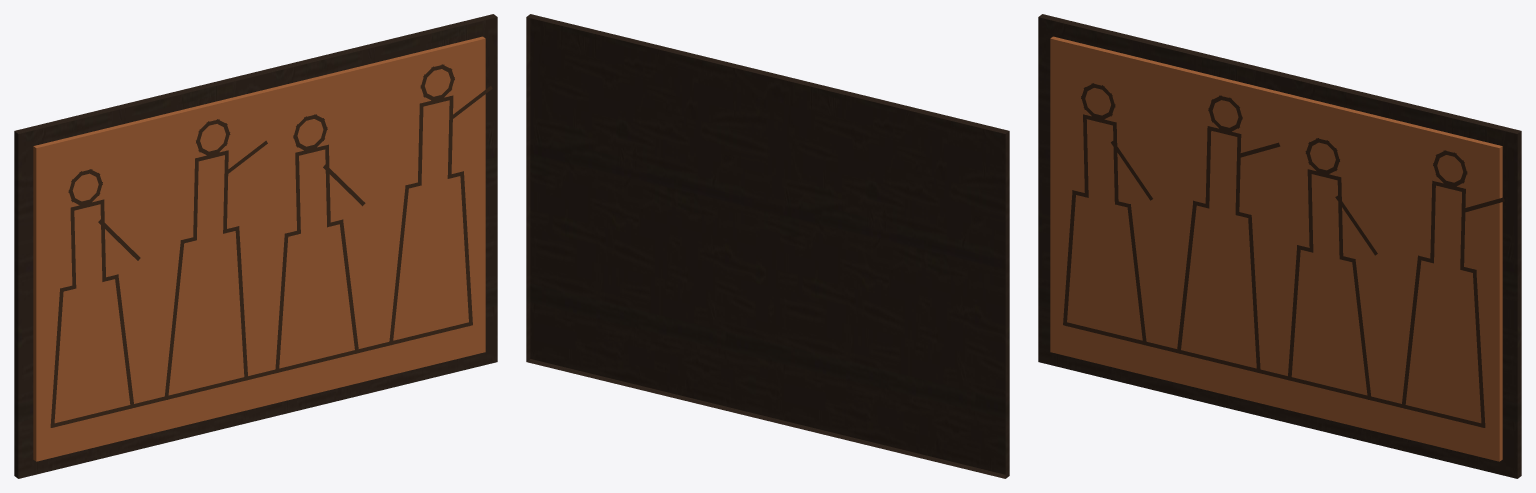
The model's file is relief_panel.glb.
3 views of the same model, side by side, from view 1: azimuth 30°, elevation 25°; view 2: azimuth 150°, elevation 25°; view 3: azimuth 330°, elevation 25° (orthographic).
Parts seen in each view (by area): view 1: relief_panel; view 2: relief_panel; view 3: relief_panel.
Boxes of the visible parts, x1=… form: relief_panel: x1=14, y1=14, x2=497, y2=478; relief_panel: x1=526, y1=14, x2=1009, y2=478; relief_panel: x1=1038, y1=14, x2=1521, y2=478.
Size of the model in its own units: 3.84 by 2.64 by 0.11.
Materials: 3 (1 with a texture image).
